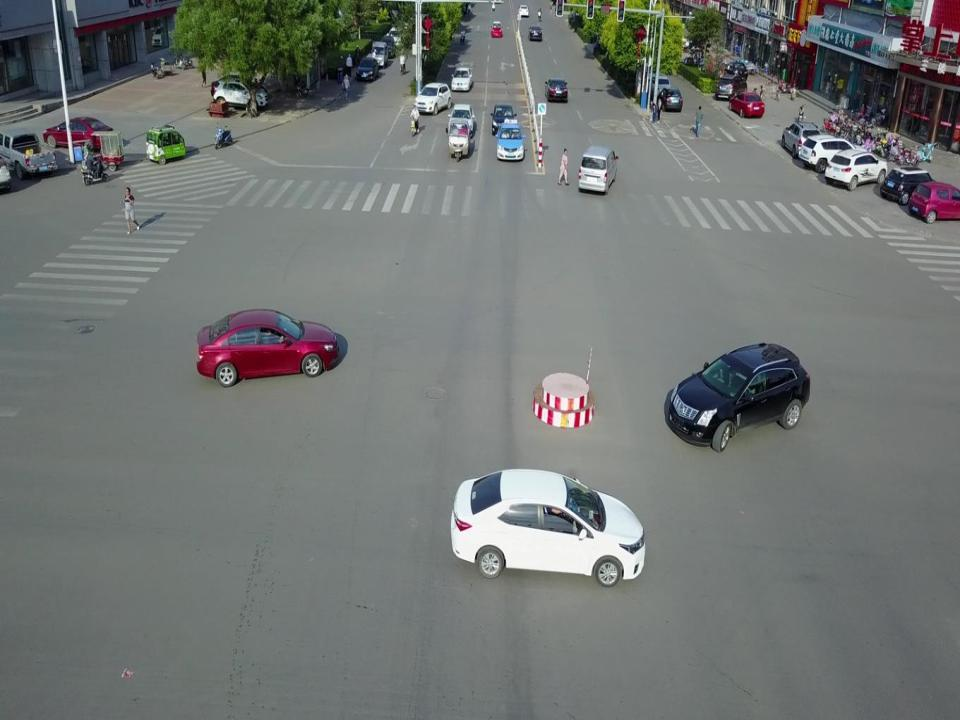car: (450, 467, 644, 587), (661, 337, 812, 455), (194, 306, 343, 387), (0, 129, 63, 174), (823, 147, 887, 191), (797, 133, 858, 172), (43, 116, 117, 148), (908, 179, 958, 224), (576, 144, 618, 195), (881, 166, 935, 204), (209, 75, 269, 108), (778, 121, 820, 157), (496, 118, 525, 162), (413, 82, 451, 113), (727, 90, 765, 121), (449, 102, 474, 138), (715, 73, 748, 100), (491, 103, 515, 134), (354, 56, 379, 84), (644, 75, 670, 99), (544, 79, 568, 104), (450, 66, 474, 90), (658, 87, 682, 111), (370, 40, 388, 70), (725, 59, 748, 80), (386, 25, 406, 48), (489, 20, 503, 40), (528, 25, 544, 42), (517, 6, 529, 16)
